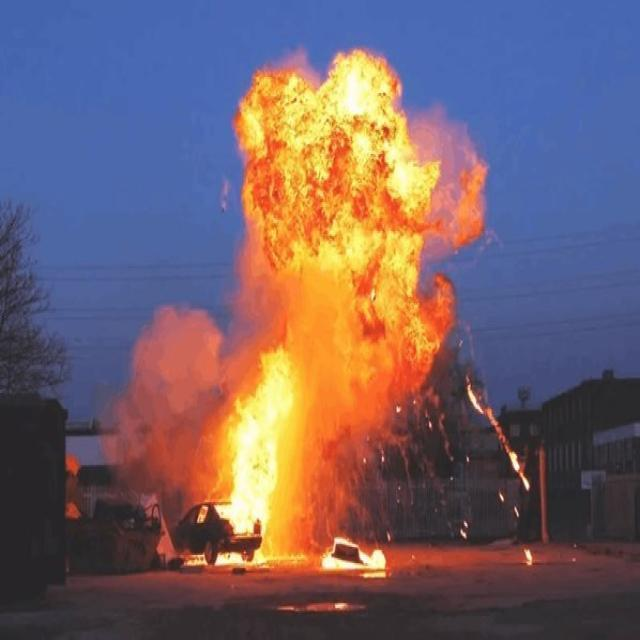fire: (122, 49, 502, 576)
